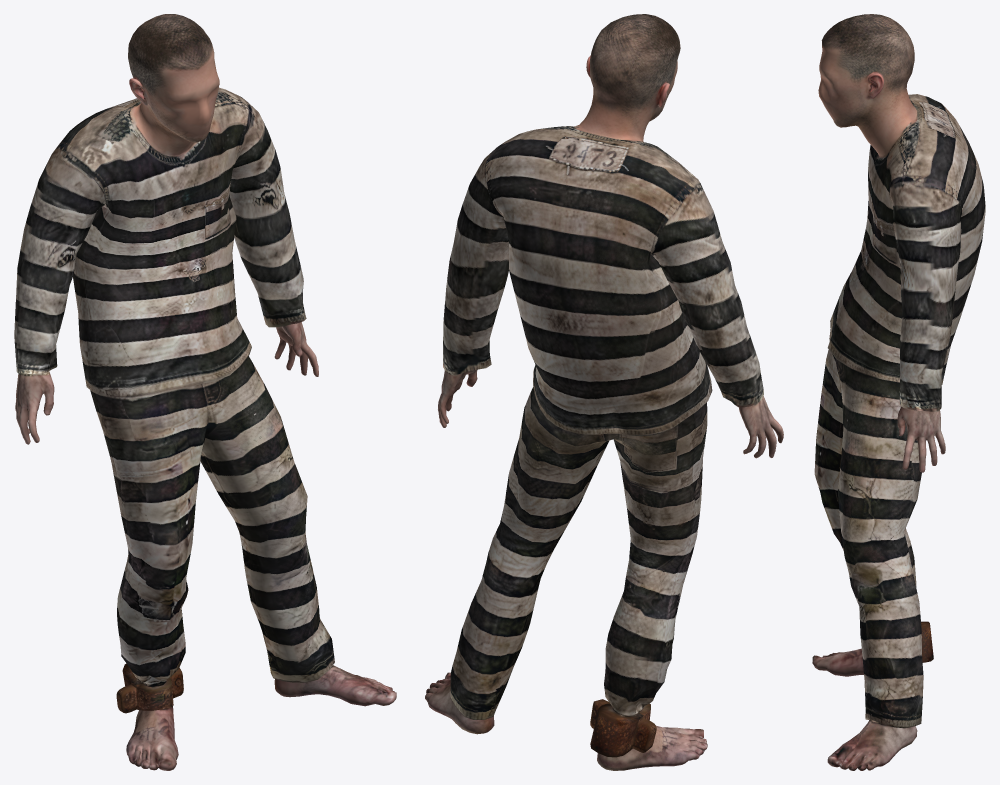
File: Prisoner_Idle.fbx
3 views of the same model, side by side, from view 1: azimuth 30°, elevation 25°; view 2: azimuth 150°, elevation 25°; view 3: azimuth 270°, elevation 25° (orthographic). The views are drawn at different scales.
Visible parts, largest first — view 1: a2bed9a9_d5d2_4297_989a_29acd7c3acb8; view 2: a2bed9a9_d5d2_4297_989a_29acd7c3acb8; view 3: a2bed9a9_d5d2_4297_989a_29acd7c3acb8.
Part boxes in pixels (box(x1,y1,x2,y2)): a2bed9a9_d5d2_4297_989a_29acd7c3acb8: box(14, 14, 396, 770); a2bed9a9_d5d2_4297_989a_29acd7c3acb8: box(425, 14, 783, 770); a2bed9a9_d5d2_4297_989a_29acd7c3acb8: box(812, 14, 985, 770).
Bounding box in the file's own units: 245 × 113 × 478.
